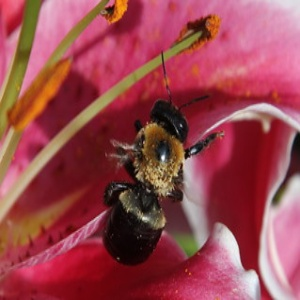bee: (105, 99, 195, 270)
